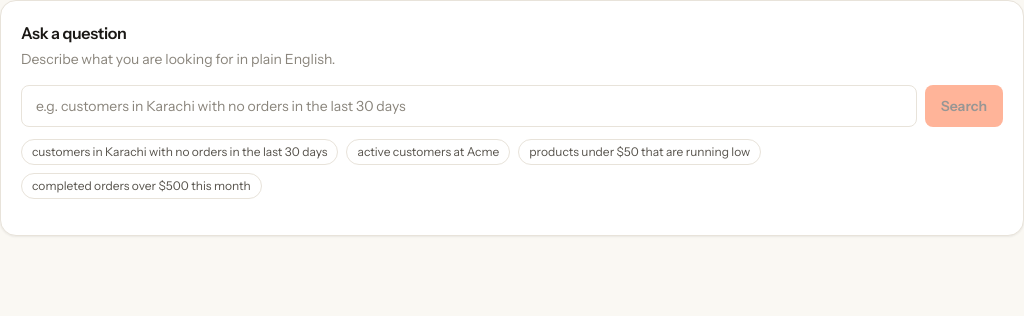
Scenario: AiSearchBar › shows the rate-limit message
Type "anything" into the field at (469, 106), box [21,85,917,127]
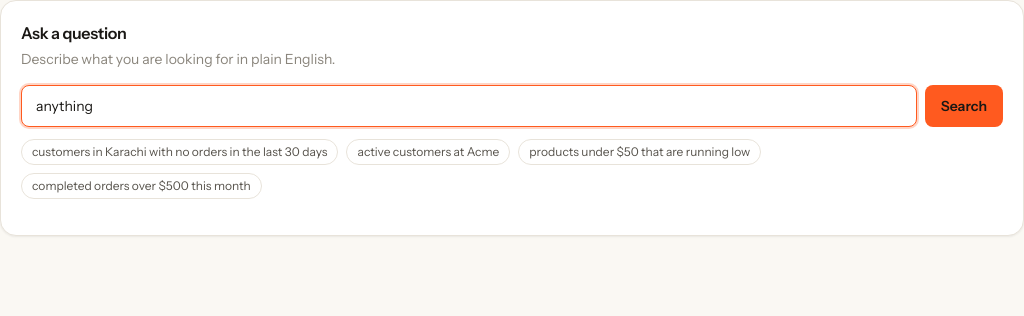
Click the button "Search" at (964, 106), box [925,85,1003,127]
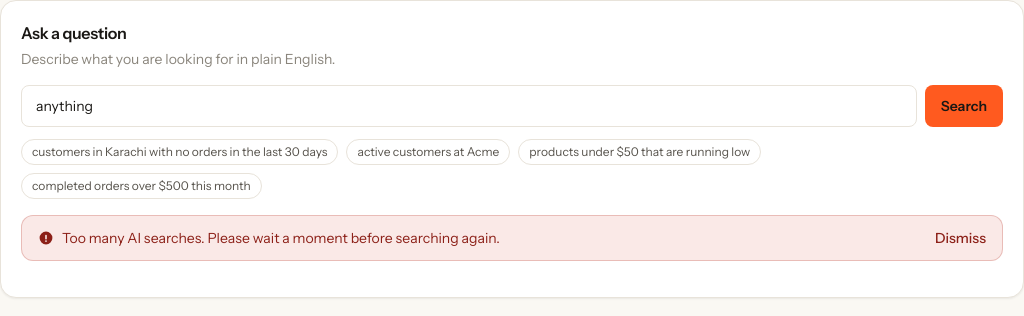
Check: the text "Too many AI searches" is shown, box [62,229,500,247]
